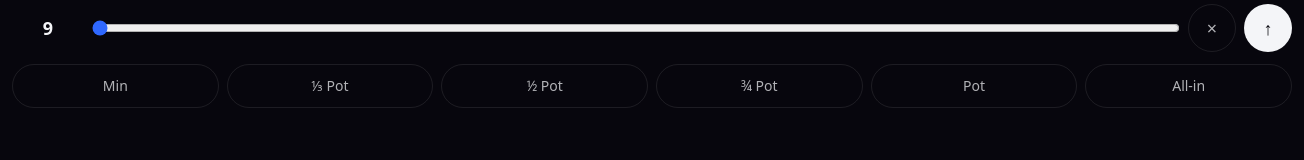
ActionDock › preset chips move the amount, clamped into the legal window
The image size is (1304, 160).
Click the button "½ Pot" at coordinates (545, 86), box [441,64,648,108]
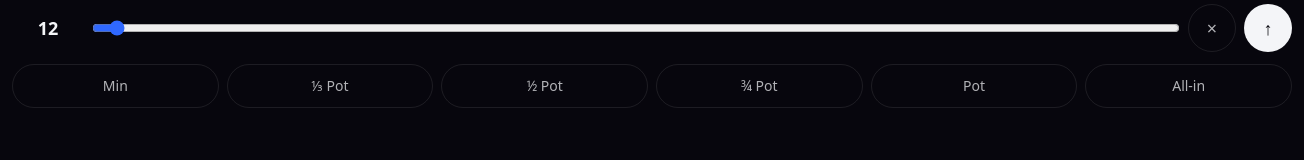
Now the slider named "Bet size in chips" holds "6", box [92,6,1180,50]
A third of a 12bb pot is 4bb — below the 4.5 min, so the chip clamps up.
Click the button "⅓ Pot" at coordinates (330, 86), box [227,64,433,108]
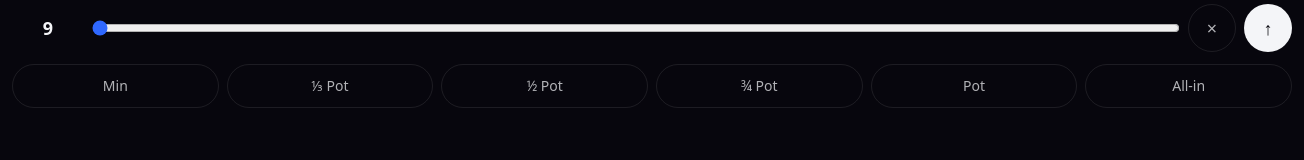
Now the slider named "Bet size in chips" holds "4.5", box [92,6,1180,50]
